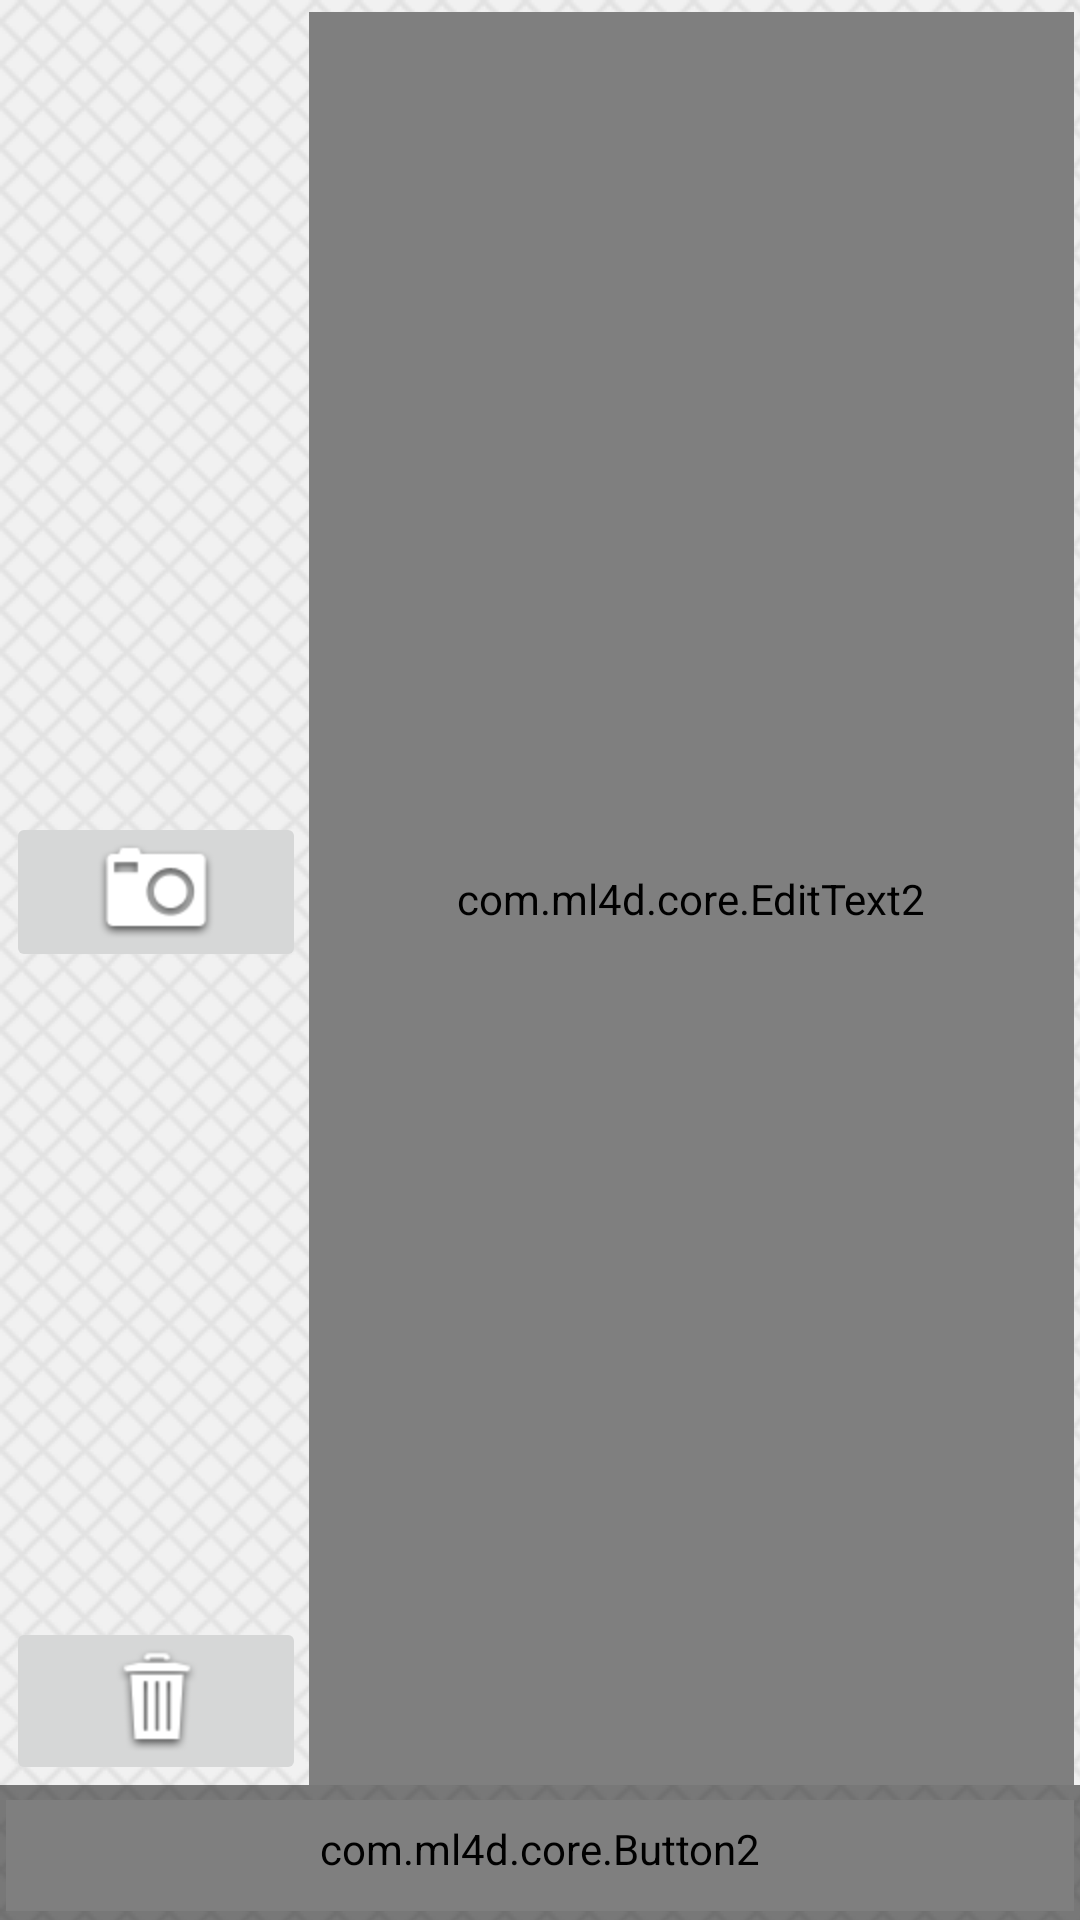

Icons on this 1080 × 1920 Android screen, each with the point to tap as (x,y):
bin: (156,1701)
camera: (156,892)
